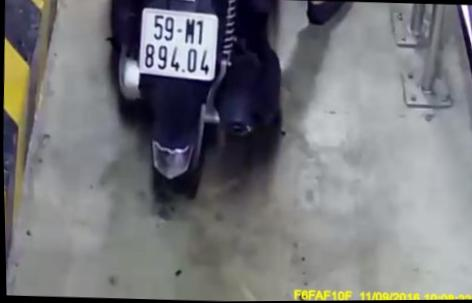LP: (140, 5, 220, 82)
